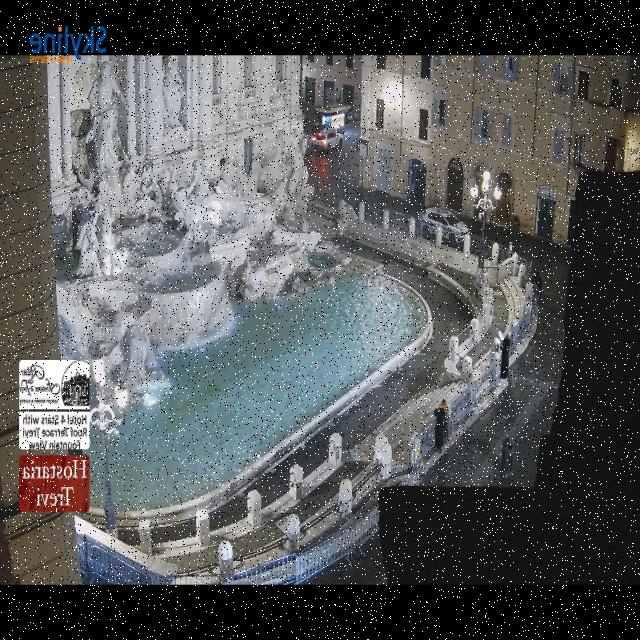person: (434, 402, 445, 452), (441, 402, 451, 448), (500, 335, 509, 379), (530, 271, 541, 304), (341, 180, 347, 199)
